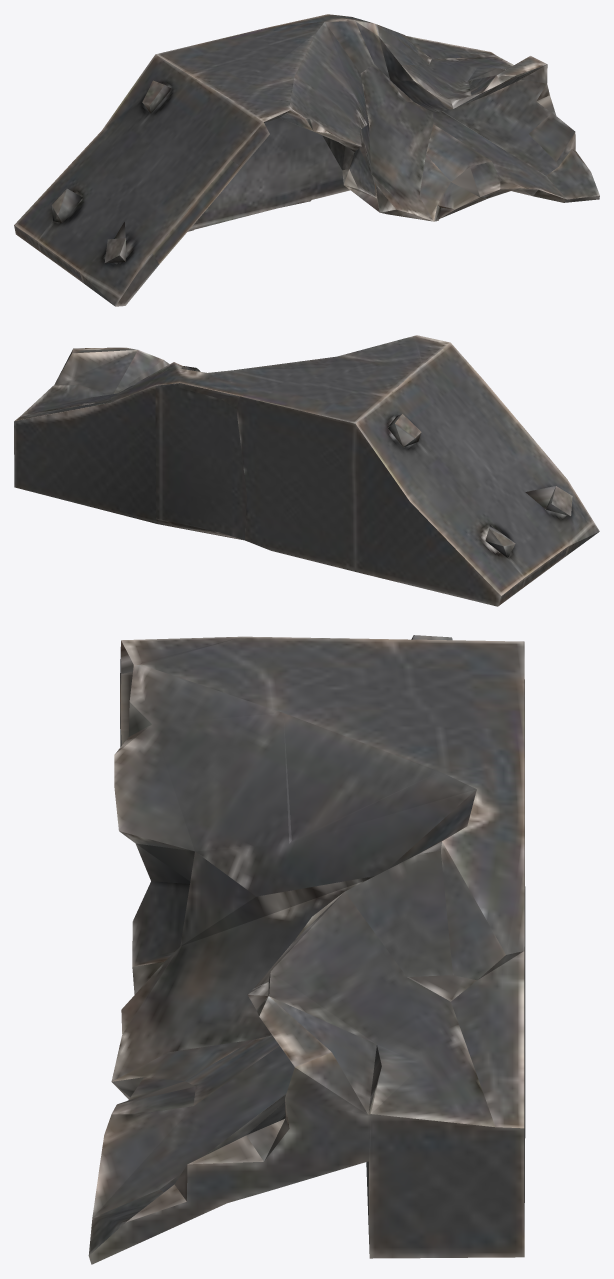
The model's file is shared_rubble_kit__girder_small_folded_lod2.glb.
3 renders of one model, top to bottom at view 1: azimuth 30°, elevation 25°; view 2: azimuth 150°, elevation 25°; view 3: azimuth 270°, elevation 25°, orthographic. The views are drawn at different scales.
Visible parts, largest first — view 1: mesh_node; view 2: mesh_node; view 3: mesh_node.
Boxes of the visible parts, x1,y1,x2,y2 form: mesh_node: (14,14,599,306); mesh_node: (14,335,599,606); mesh_node: (88,635,525,1264).
Size of the model in its own units: 1.83 by 0.566 by 0.7224.
1 material, 1 textured.
